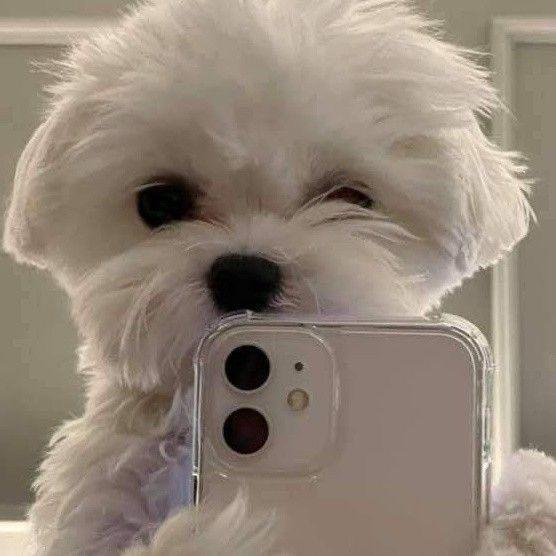puppy-dog: (5, 0, 551, 556)
